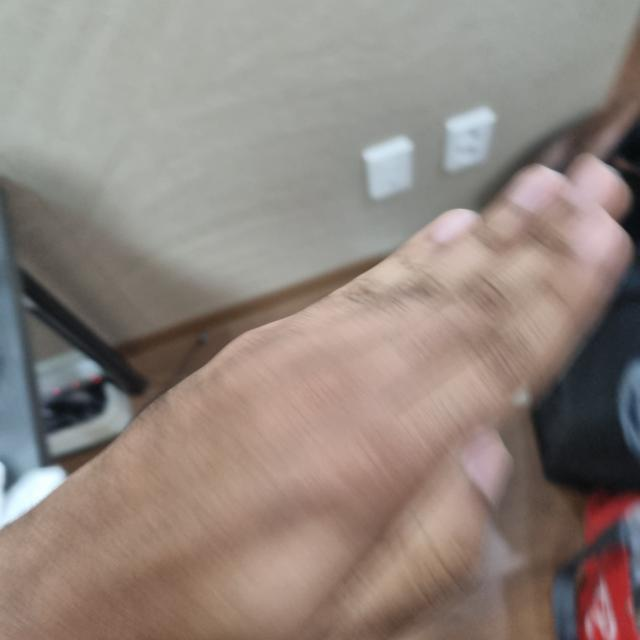Paper: (49, 168, 633, 638)
